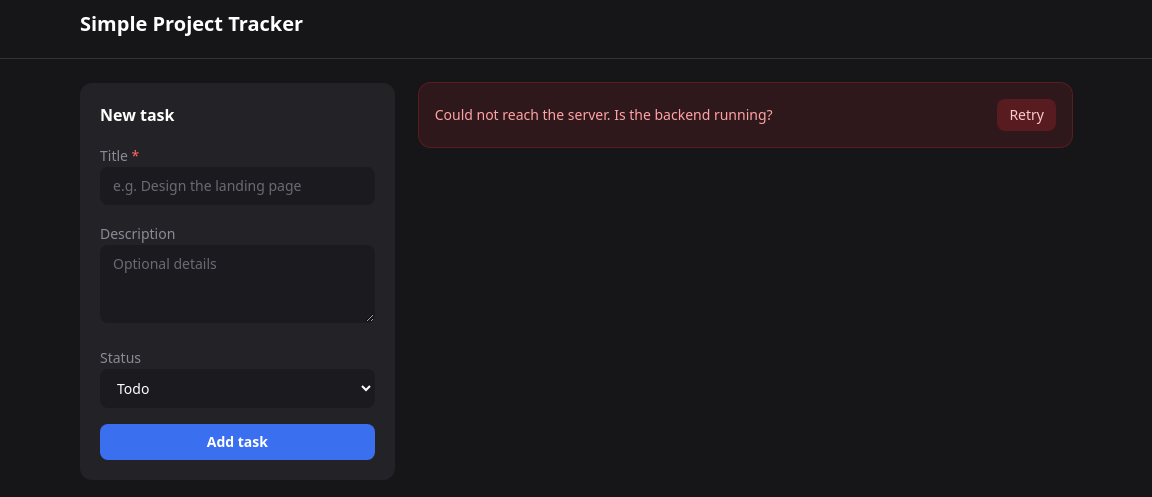
it: task list › shows an error with retry when the backend is unreachable
This screenshot has width=1152, height=497.
Expected: the message shows "Could not reach the server", [435, 105, 773, 124]
Click the button "Retry" at (1027, 115), box [997, 99, 1056, 131]
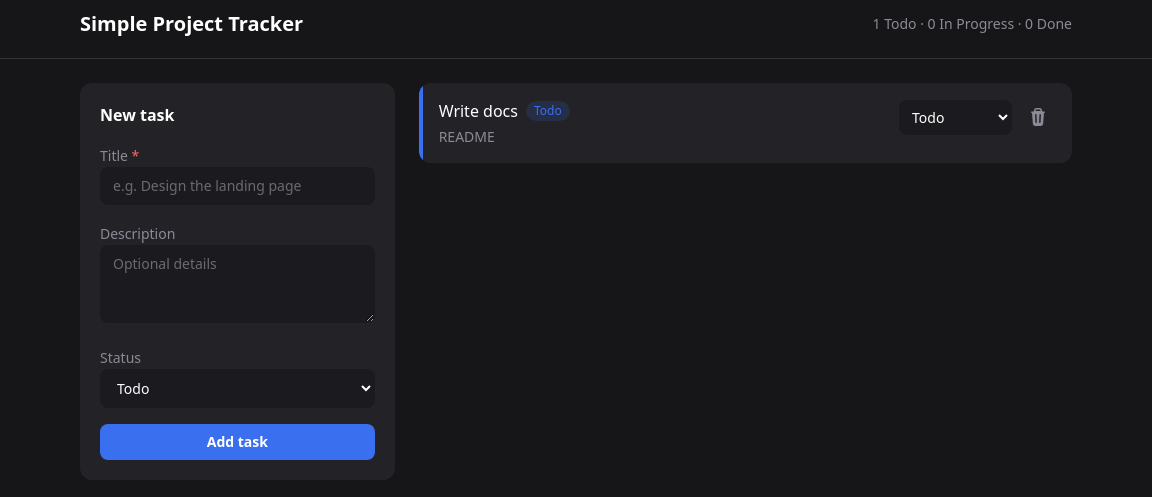
Now the heading "Write docs" is shown, box [439, 99, 518, 123]
